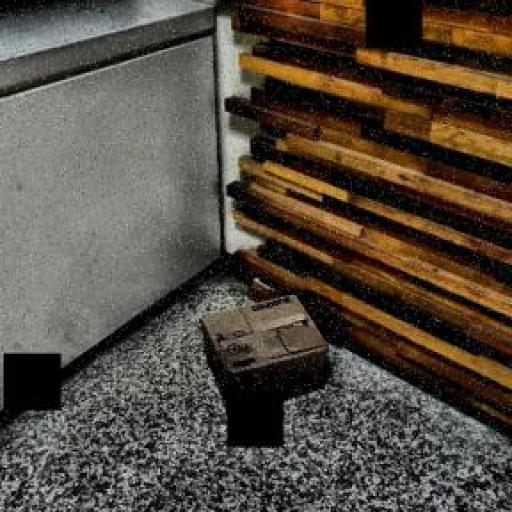box: (181, 290, 343, 420)
